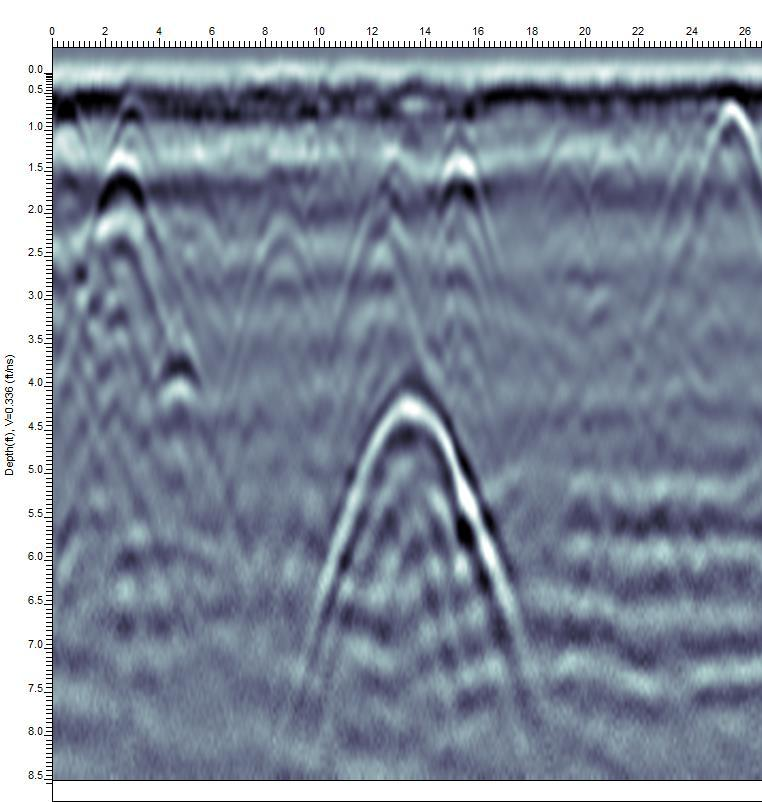Hyperbola: (289, 365, 519, 625), (221, 190, 324, 320), (94, 102, 179, 222), (349, 181, 416, 324), (672, 84, 762, 184), (429, 126, 500, 235), (148, 326, 215, 429), (525, 130, 595, 218)
